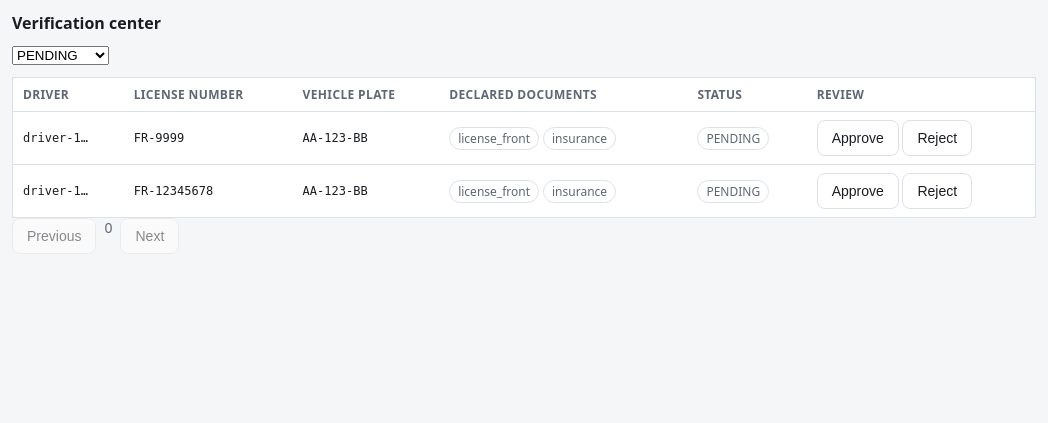
it: VerificationPage (Phase 6 verification center) › reject requires a reason - empty confirm is disabled, server 400 surfaces verbatim
Expected: the table with test id "verification-table" is shown, [12, 77, 1036, 218]
Click the button "Reject" in the row of "FR-12345678" at x=937, y=191, box [902, 173, 972, 209]
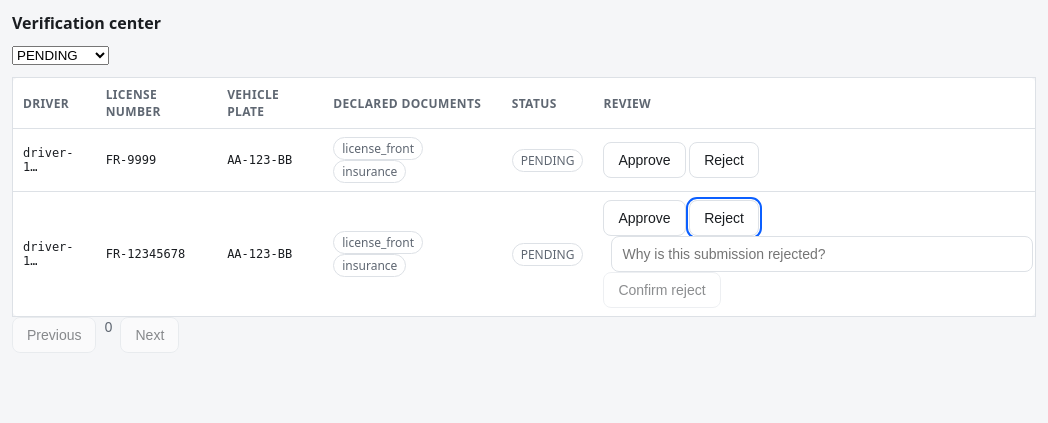
// Server-side 400 (invalid_reason) renders verbatim in the error banner.
Type "x" into the field with placeholder "Why is this submission rejected?" at x=822, y=254, box [611, 236, 1033, 272]
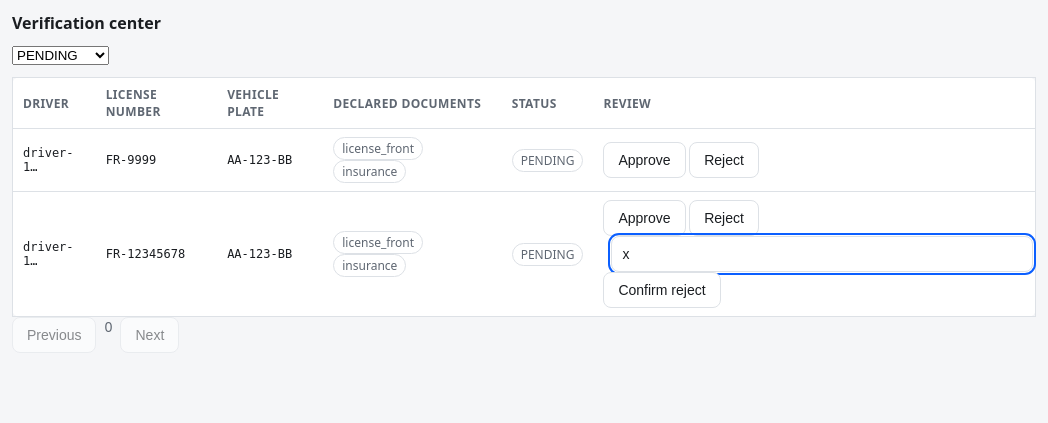
Click the button "Confirm reject" at x=662, y=290, box [603, 272, 720, 308]
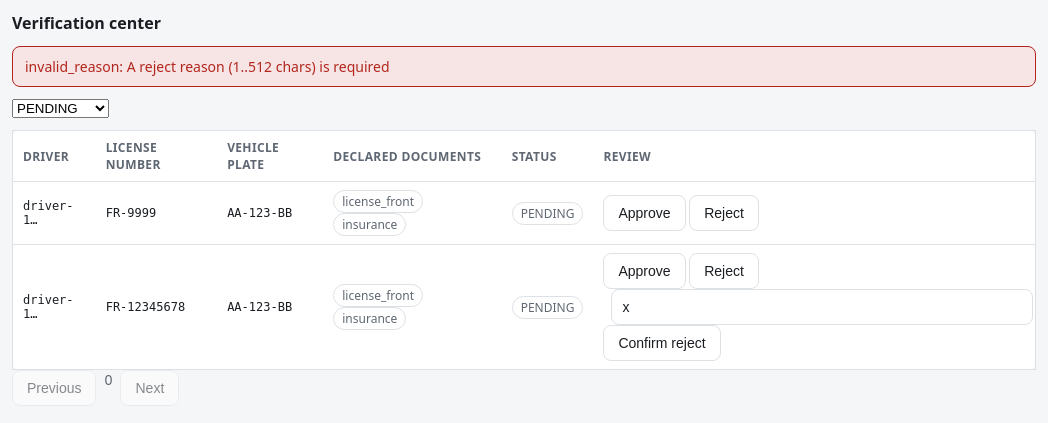
Expected: the text with test id "verification-error" shows "invalid_reason", [25, 57, 390, 76]
// A real reason round-trips and the row shows the reject reason.
Replace the text in the field named "Reject reason" with "plate mismatch" at x=822, y=307, box [611, 289, 1033, 325]
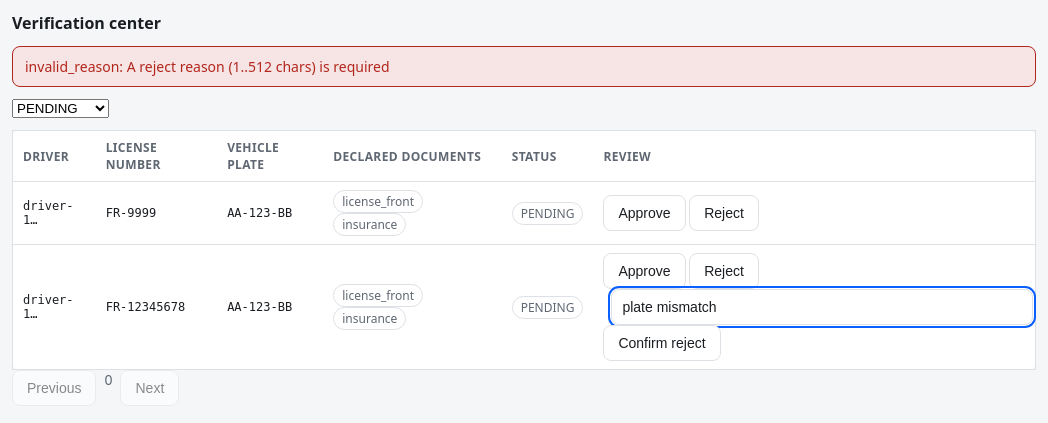
Click the button "Confirm reject" at x=662, y=343, box [603, 325, 720, 361]
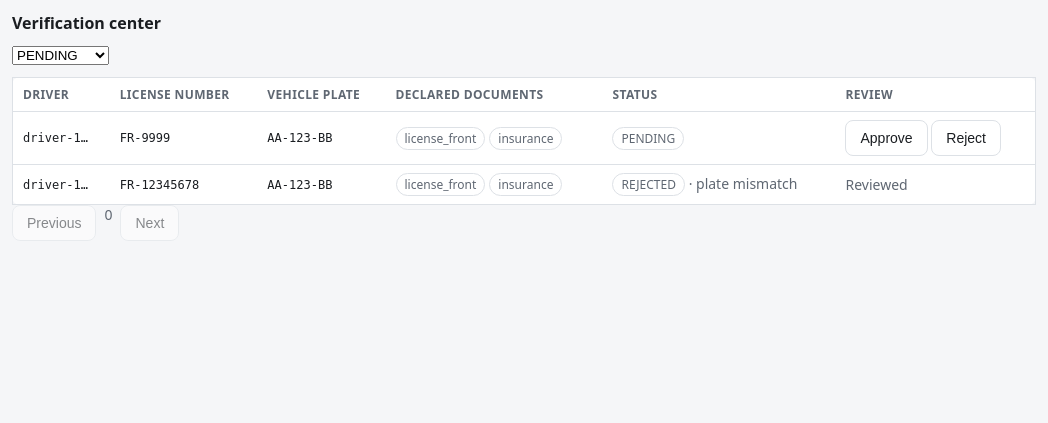
Expected: the text with test id "verification-error" is gone
